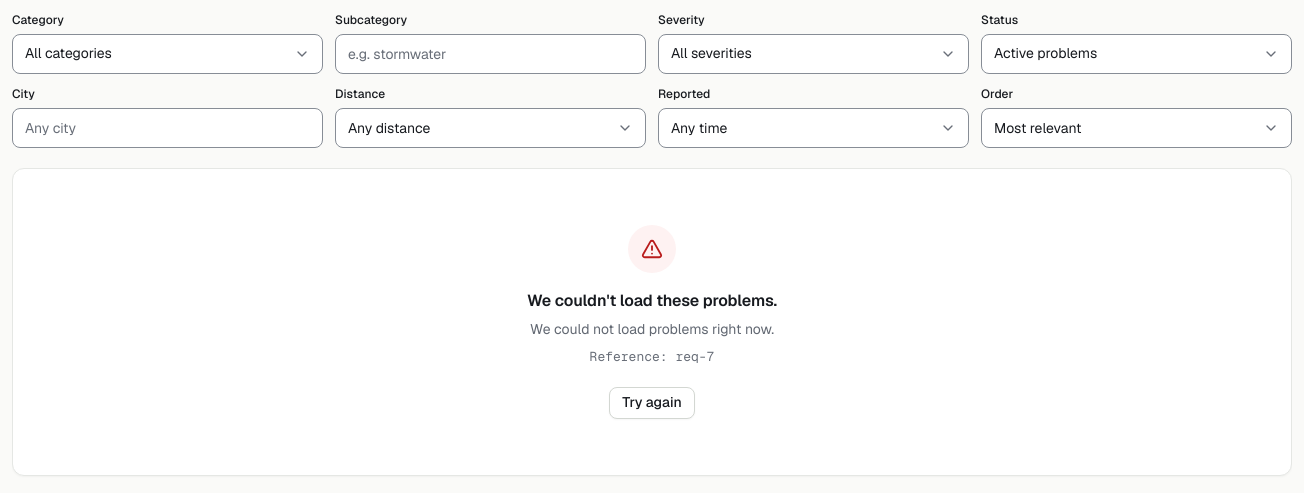
Test: WorkspaceProblems › shows an error with a working retry
The width and height of the screenshot is (1304, 493).
Expected: the message shows "We couldn't load these problems.", top-left (527, 290), bottom-right (777, 311)
Expected: the message shows "req-7", top-left (675, 348), bottom-right (714, 365)
Step 1. Click the button "Try again" → (652, 403), box top-left (609, 387), bottom-right (695, 419)
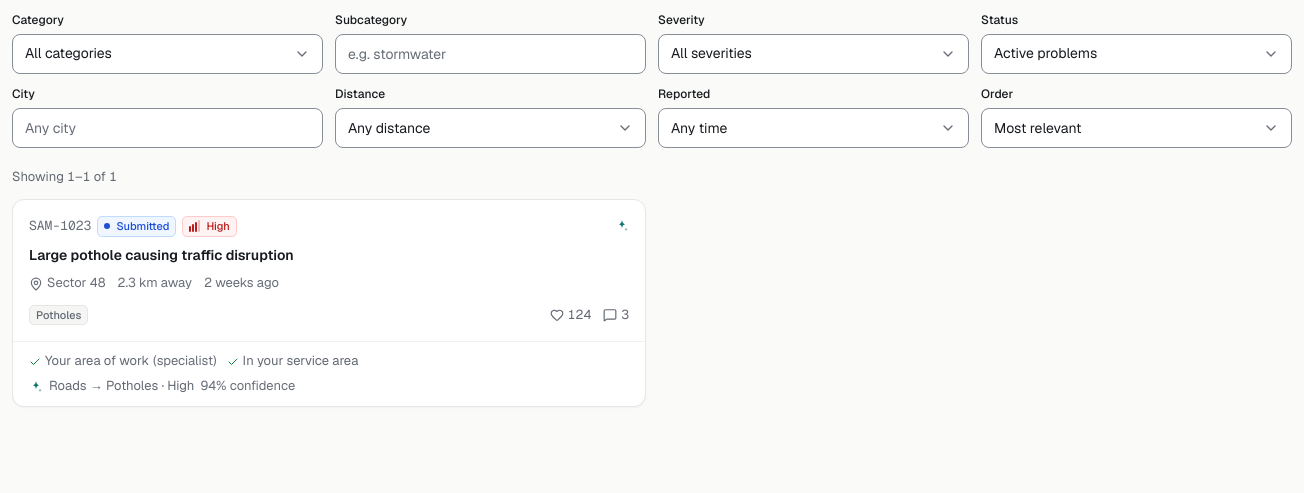
Now the link "Large pothole causing traffic disruption" is shown, box top-left (29, 246), bottom-right (294, 264)
